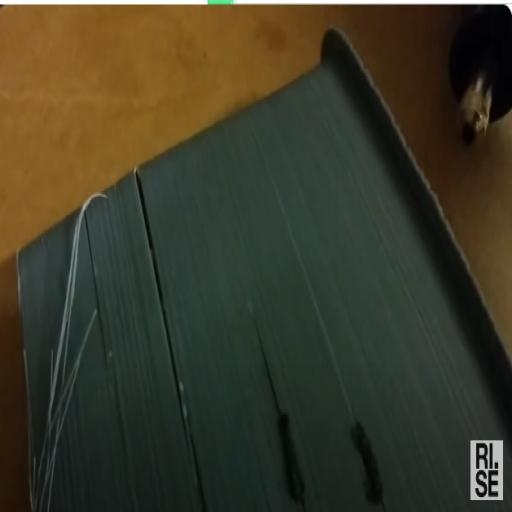cracks: (116, 130, 227, 448)
